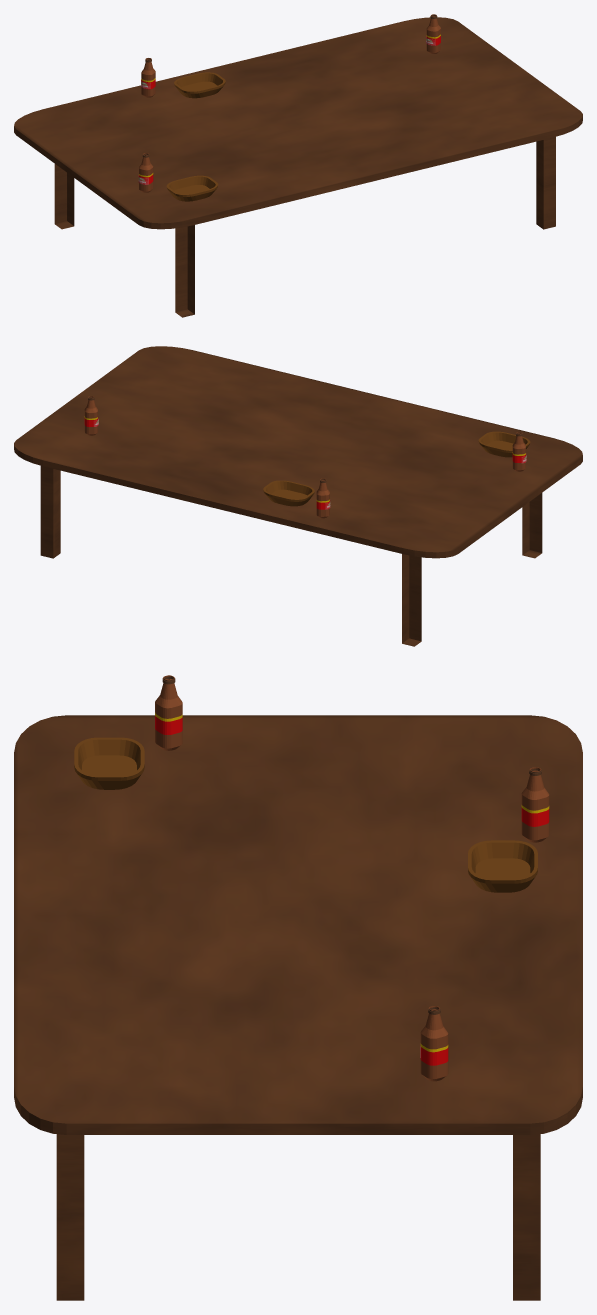
Rendered from mesa.glb.
3 renders of one model, top to bottom at view 1: azimuth 30°, elevation 25°; view 2: azimuth 150°, elevation 25°; view 3: azimuth 270°, elevation 25°, orthographic. The views are drawn at different scales.
Visible parts, largest first — view 1: mesa_principal, amendoim, garrafas; view 2: mesa_principal, amendoim, garrafas; view 3: mesa_principal, amendoim, garrafas.
Part boxes in pixels (left/top/right/bottom): mesa_principal: left=14, top=17, right=582, bottom=317; amendoim: left=166, top=72, right=225, bottom=201; garrafas: left=138, top=14, right=440, bottom=192; mesa_principal: left=14, top=346, right=582, bottom=646; amendoim: left=263, top=431, right=530, bottom=506; garrafas: left=84, top=396, right=526, bottom=518; mesa_principal: left=14, top=715, right=582, bottom=1300; amendoim: left=74, top=737, right=537, bottom=892; garrafas: left=155, top=675, right=549, bottom=1081.
Size of the model in its own units: 14.06 by 4.36 by 8.28.
Materials: 7 (2 with a texture image).
